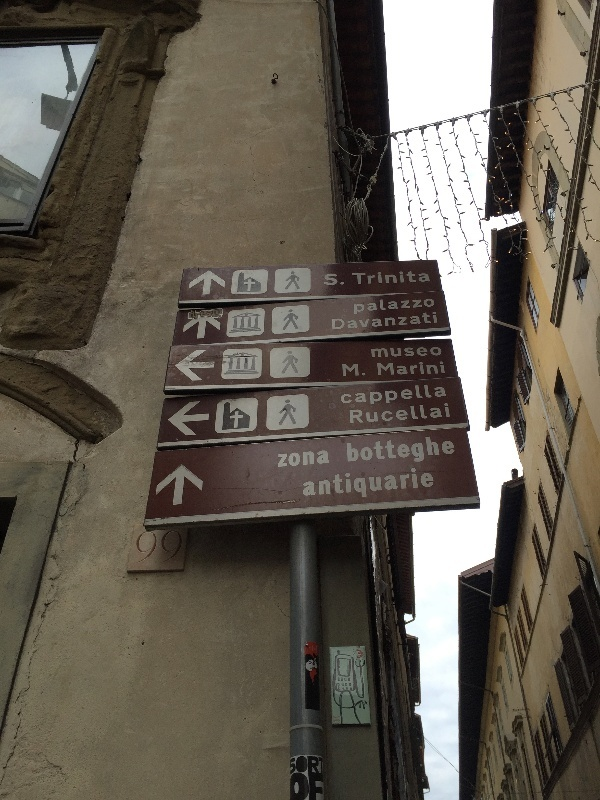text: (305, 466, 320, 503), (321, 466, 336, 503), (337, 466, 352, 503), (353, 466, 368, 503), (369, 466, 384, 503), (385, 466, 400, 503), (401, 466, 416, 503), (417, 466, 432, 503), (145, 530, 160, 564), (161, 530, 176, 564), (353, 434, 368, 463), (369, 434, 384, 463), (385, 434, 400, 463), (401, 434, 416, 463), (417, 434, 432, 463), (433, 434, 448, 463), (353, 383, 368, 409), (369, 383, 384, 409), (385, 383, 400, 409), (401, 383, 416, 409), (417, 383, 432, 409), (305, 773, 320, 799), (433, 383, 447, 409), (290, 773, 304, 799), (353, 403, 368, 424), (369, 403, 384, 424), (385, 403, 400, 424), (401, 403, 416, 424), (417, 403, 432, 424), (433, 403, 448, 424), (305, 755, 320, 776), (337, 311, 352, 331), (353, 311, 368, 331), (369, 311, 384, 331), (385, 311, 400, 331), (401, 311, 416, 331), (417, 311, 432, 331), (290, 755, 304, 776), (341, 383, 352, 409), (289, 450, 304, 468), (305, 450, 320, 468), (369, 298, 384, 315), (385, 298, 400, 315), (401, 298, 416, 315), (417, 298, 432, 315), (354, 298, 368, 315), (137, 530, 144, 564), (353, 270, 368, 285), (369, 270, 384, 285), (385, 270, 400, 285), (401, 270, 416, 285), (385, 361, 400, 376), (401, 361, 416, 376), (417, 361, 432, 376), (417, 270, 431, 285), (449, 434, 456, 463), (433, 361, 445, 376), (278, 450, 288, 468), (193, 308, 208, 320), (177, 530, 182, 564), (353, 364, 366, 377), (209, 308, 223, 320), (385, 347, 400, 358), (401, 347, 416, 358), (417, 347, 432, 358), (321, 450, 330, 468), (347, 434, 352, 463), (371, 347, 384, 358), (325, 273, 336, 285), (307, 644, 320, 654), (343, 364, 352, 377), (357, 649, 368, 659), (377, 361, 384, 376), (433, 311, 438, 331), (337, 273, 345, 285), (433, 347, 441, 358), (332, 311, 336, 331), (321, 773, 324, 799), (433, 466, 435, 503), (321, 755, 324, 776), (350, 403, 352, 424), (303, 466, 304, 503), (189, 308, 192, 320), (433, 298, 435, 315), (337, 715, 341, 723), (333, 715, 336, 723), (449, 403, 450, 424), (351, 270, 352, 285)
